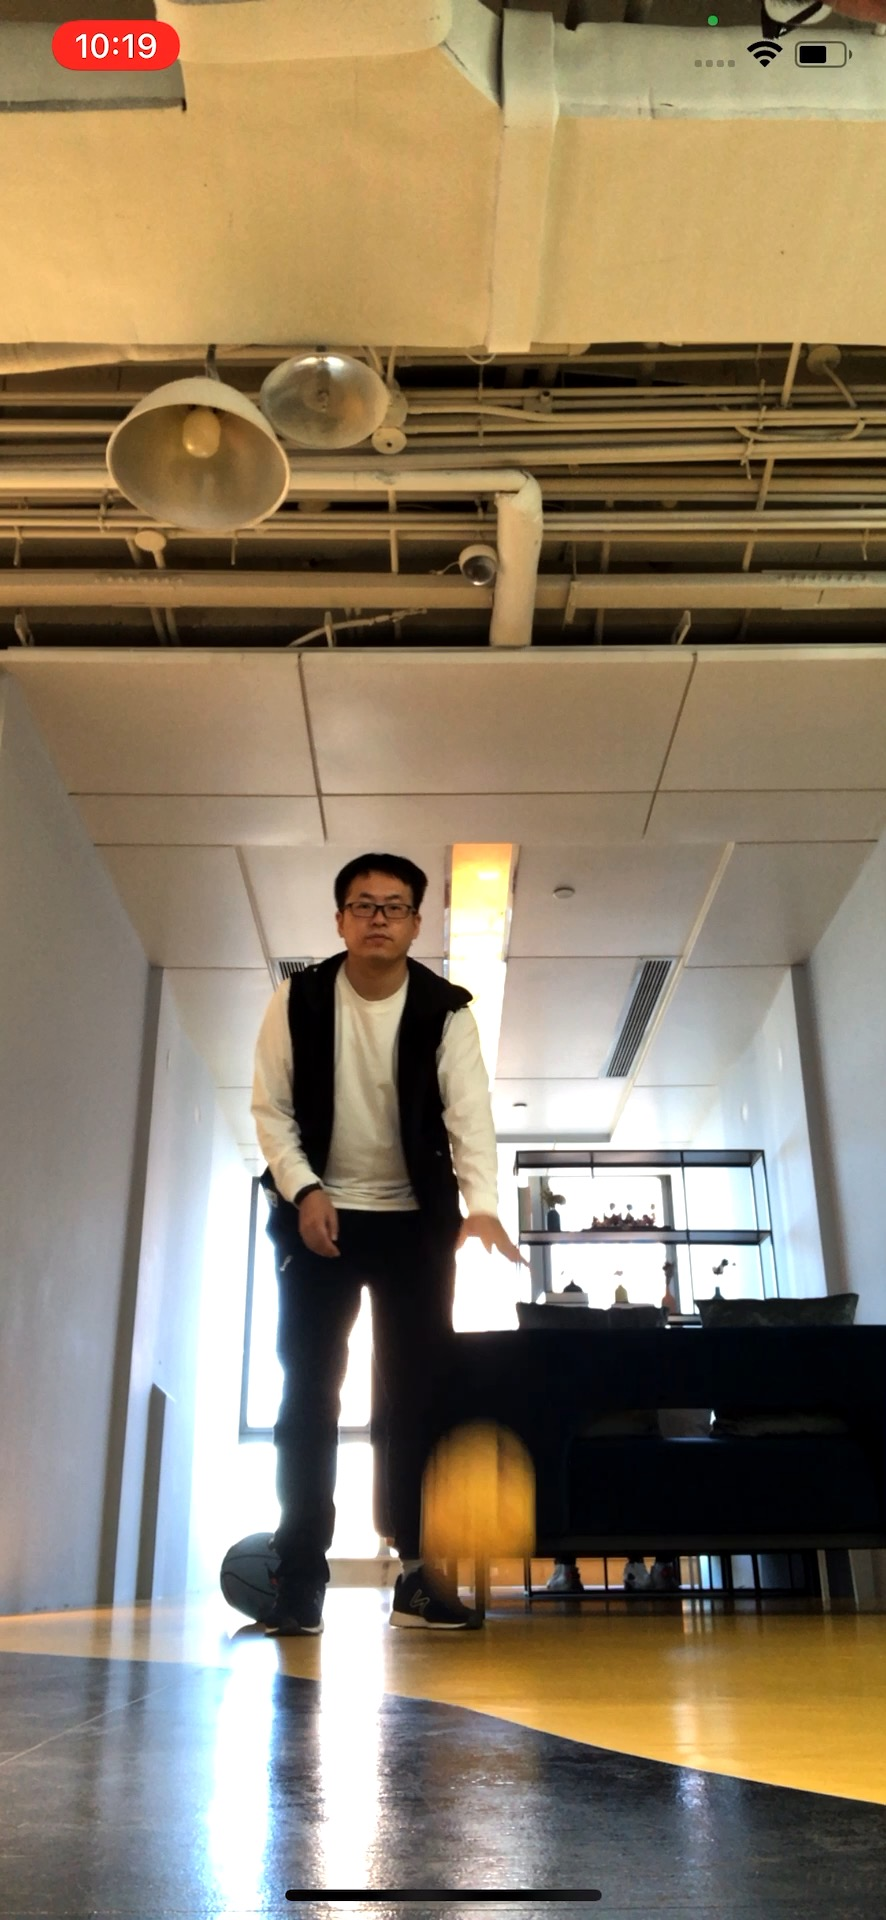ball: (414, 1431, 541, 1586), (218, 1531, 278, 1622)
